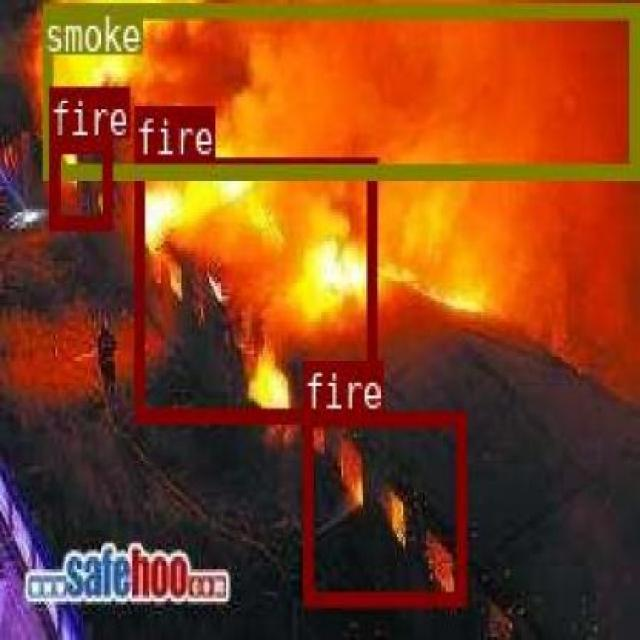fire: (134, 154, 374, 420), (302, 410, 464, 604), (46, 134, 108, 228)
smoke: (42, 3, 636, 174)
